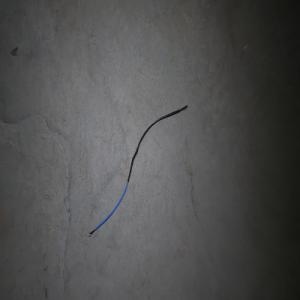Wire: (88, 104, 187, 237)
